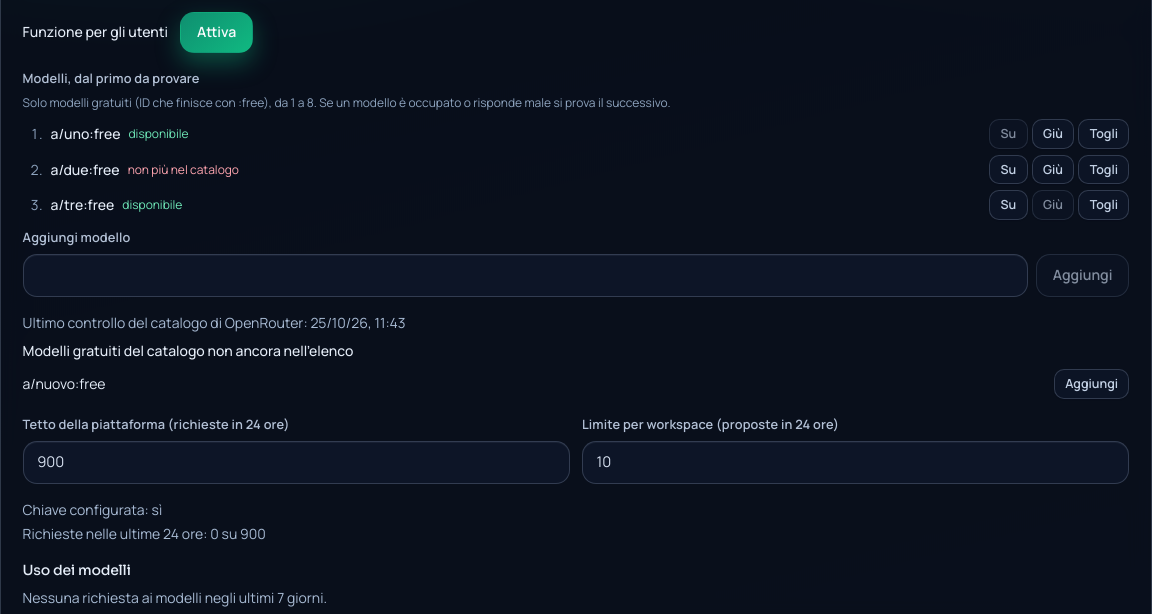
Test: elenco dei modelli nella card › mostra lo stato di ogni modello e la data del controllo; «Aggiungi» e «Togli» cambiano l'elenco inviato
Expected: the text "Ultimo controllo del catalogo di OpenRouter: 25/10/26, 11:43" is shown, x1=23 y1=313 x2=406 y2=332
Expected: the button "Su" in the row of "a/uno:free" is disabled, x1=989 y1=119 x2=1028 y2=149
Click the button "Aggiungi" in the row of "a/nuovo:free": (1092, 384) x1=1054 y1=369 x2=1129 y2=399
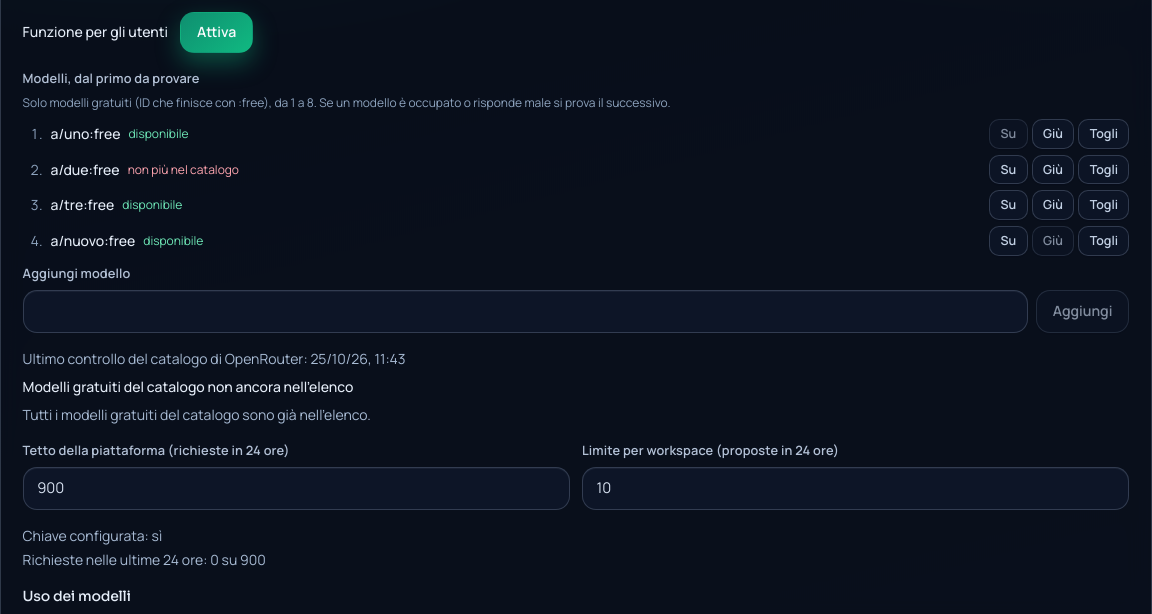
Click the button "Togli" in the row of "a/due:free": (1104, 170) x1=1078 y1=155 x2=1129 y2=184
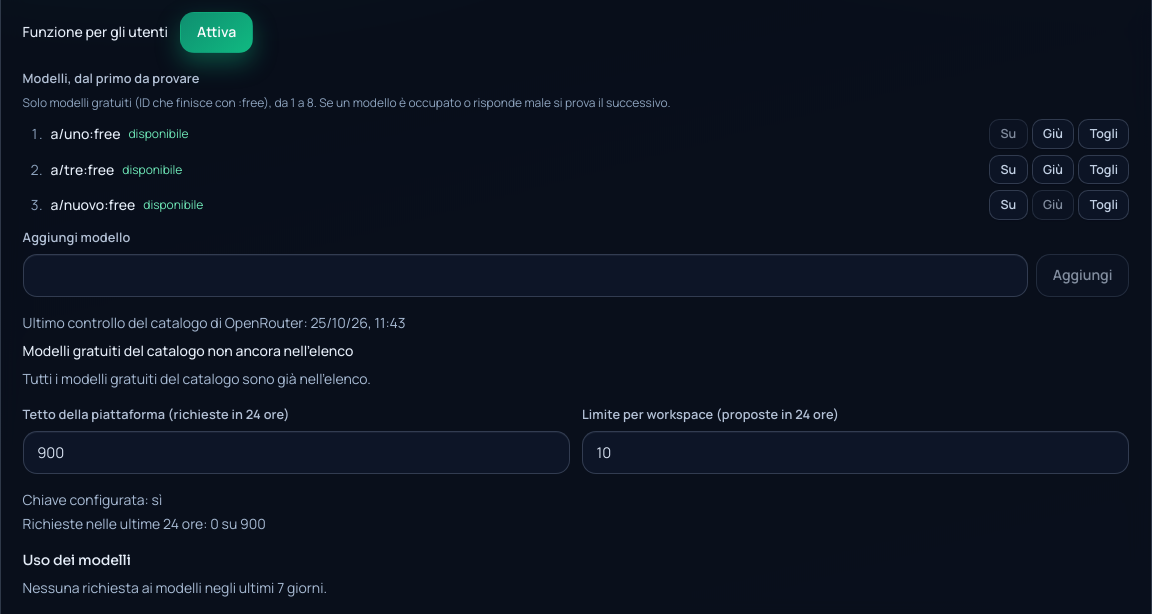
In the field labelled "Aggiungi modello": (525, 275) x1=23 y1=254 x2=1028 y2=297, type "a/pagamento"
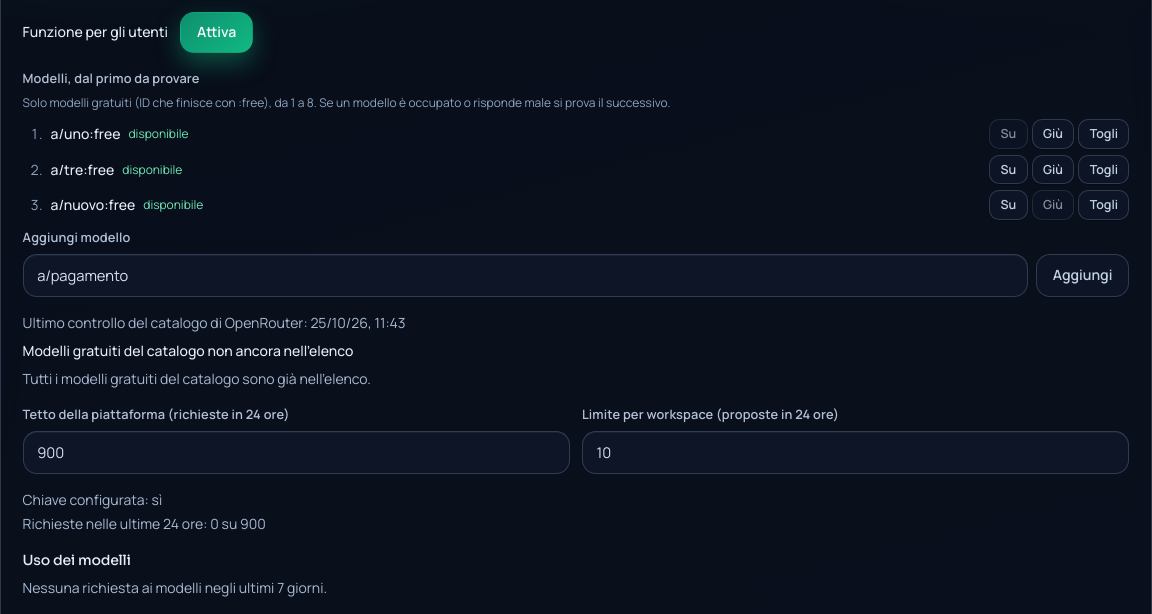
Click the button "Aggiungi": (1083, 275) x1=1036 y1=254 x2=1129 y2=297
(page scrolled)
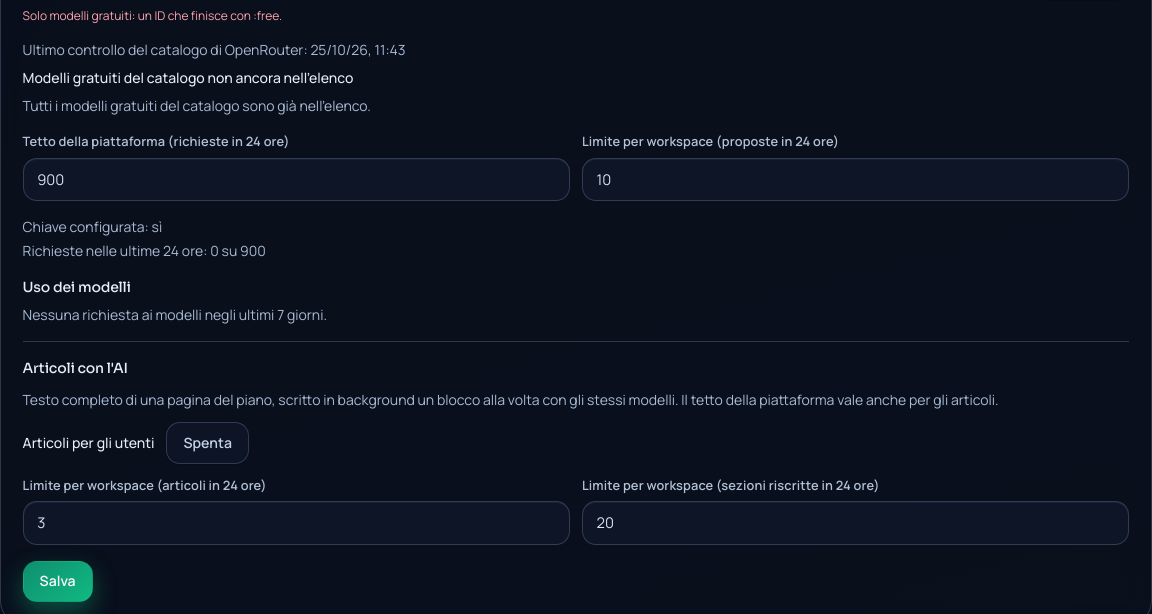
Expected: the text "Tutti i modelli gratuiti del catalogo sono già nell'elenco." is shown, x1=23 y1=96 x2=371 y2=115
Expected: the message reads "Solo modelli gratuiti: un ID che finisce con :free.", x1=23 y1=7 x2=282 y2=24
Click the button "Salva": (58, 581) x1=23 y1=561 x2=93 y2=602
(page scrolled)
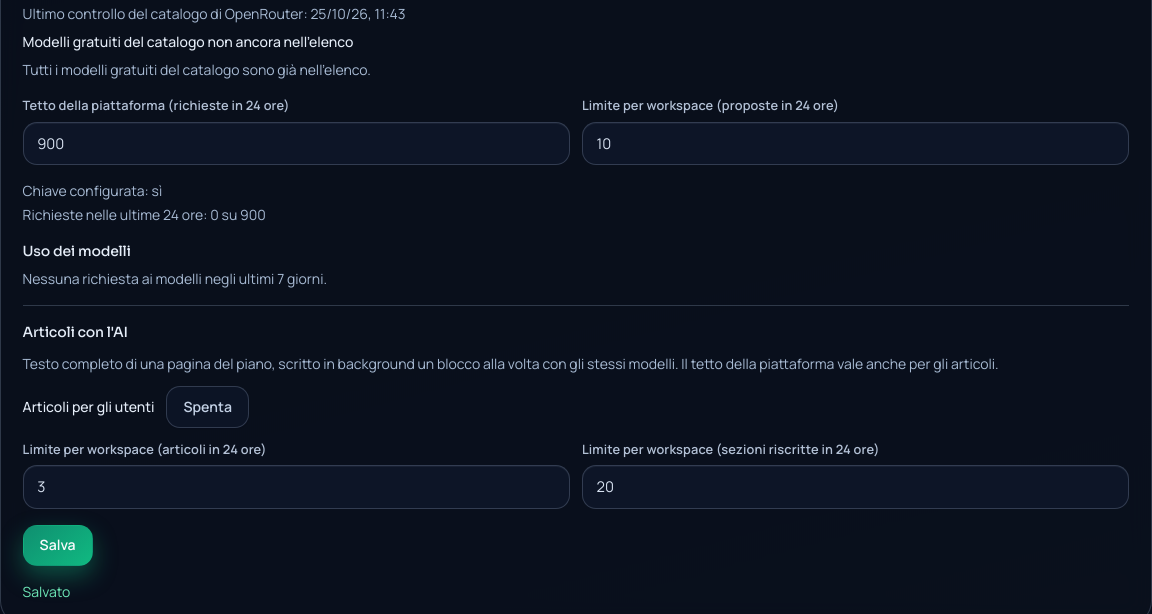
Expected: the text "Salvato" is shown, x1=23 y1=582 x2=70 y2=601
